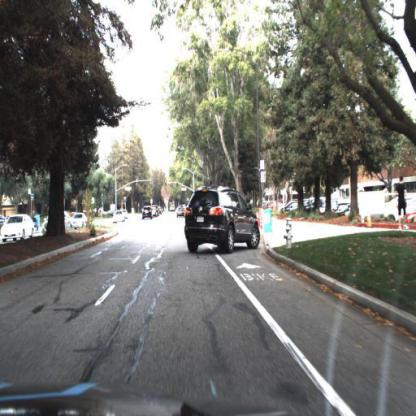car: (183, 183, 260, 255), (1, 214, 36, 244), (42, 209, 75, 237), (43, 211, 74, 238), (275, 197, 307, 219), (70, 209, 91, 232), (141, 203, 154, 222), (113, 210, 127, 226), (173, 205, 187, 220)
pedestrian: (395, 175, 411, 232)
